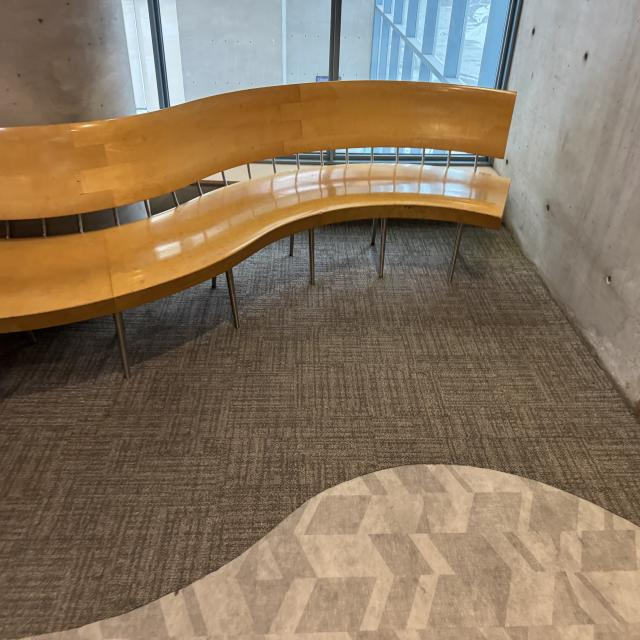Bench: (4, 69, 517, 339)
